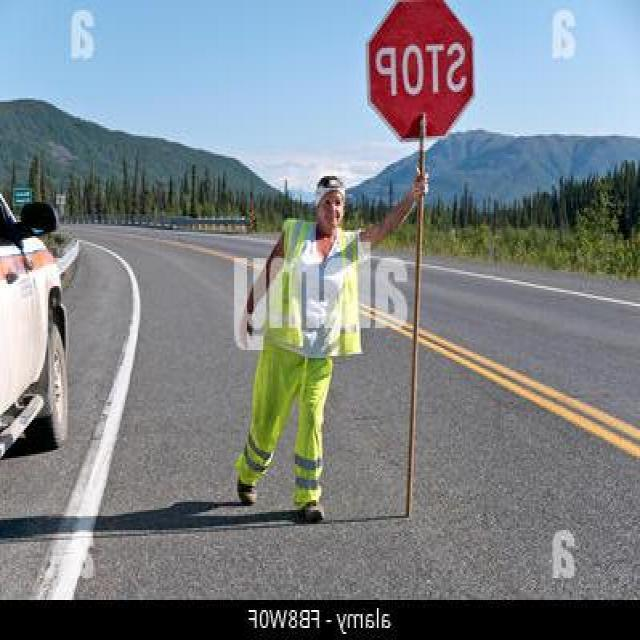reflective_jacket: (247, 217, 373, 366)
safety_helmet: (301, 162, 356, 215)
